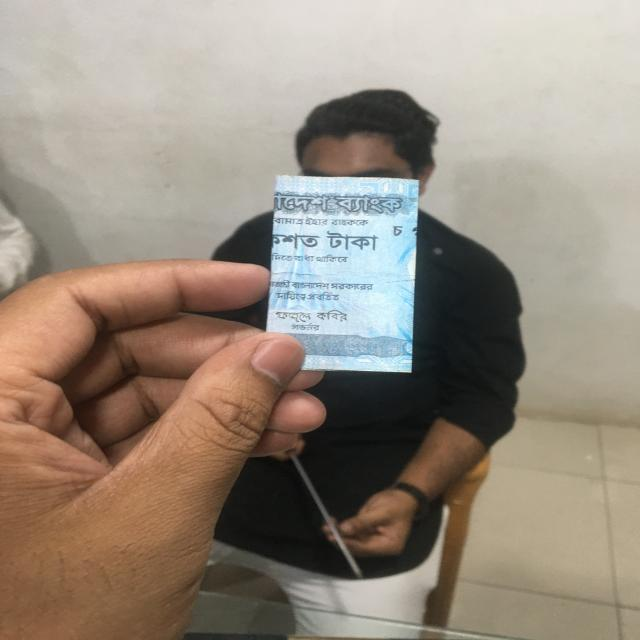Taka: (271, 173, 415, 371)
